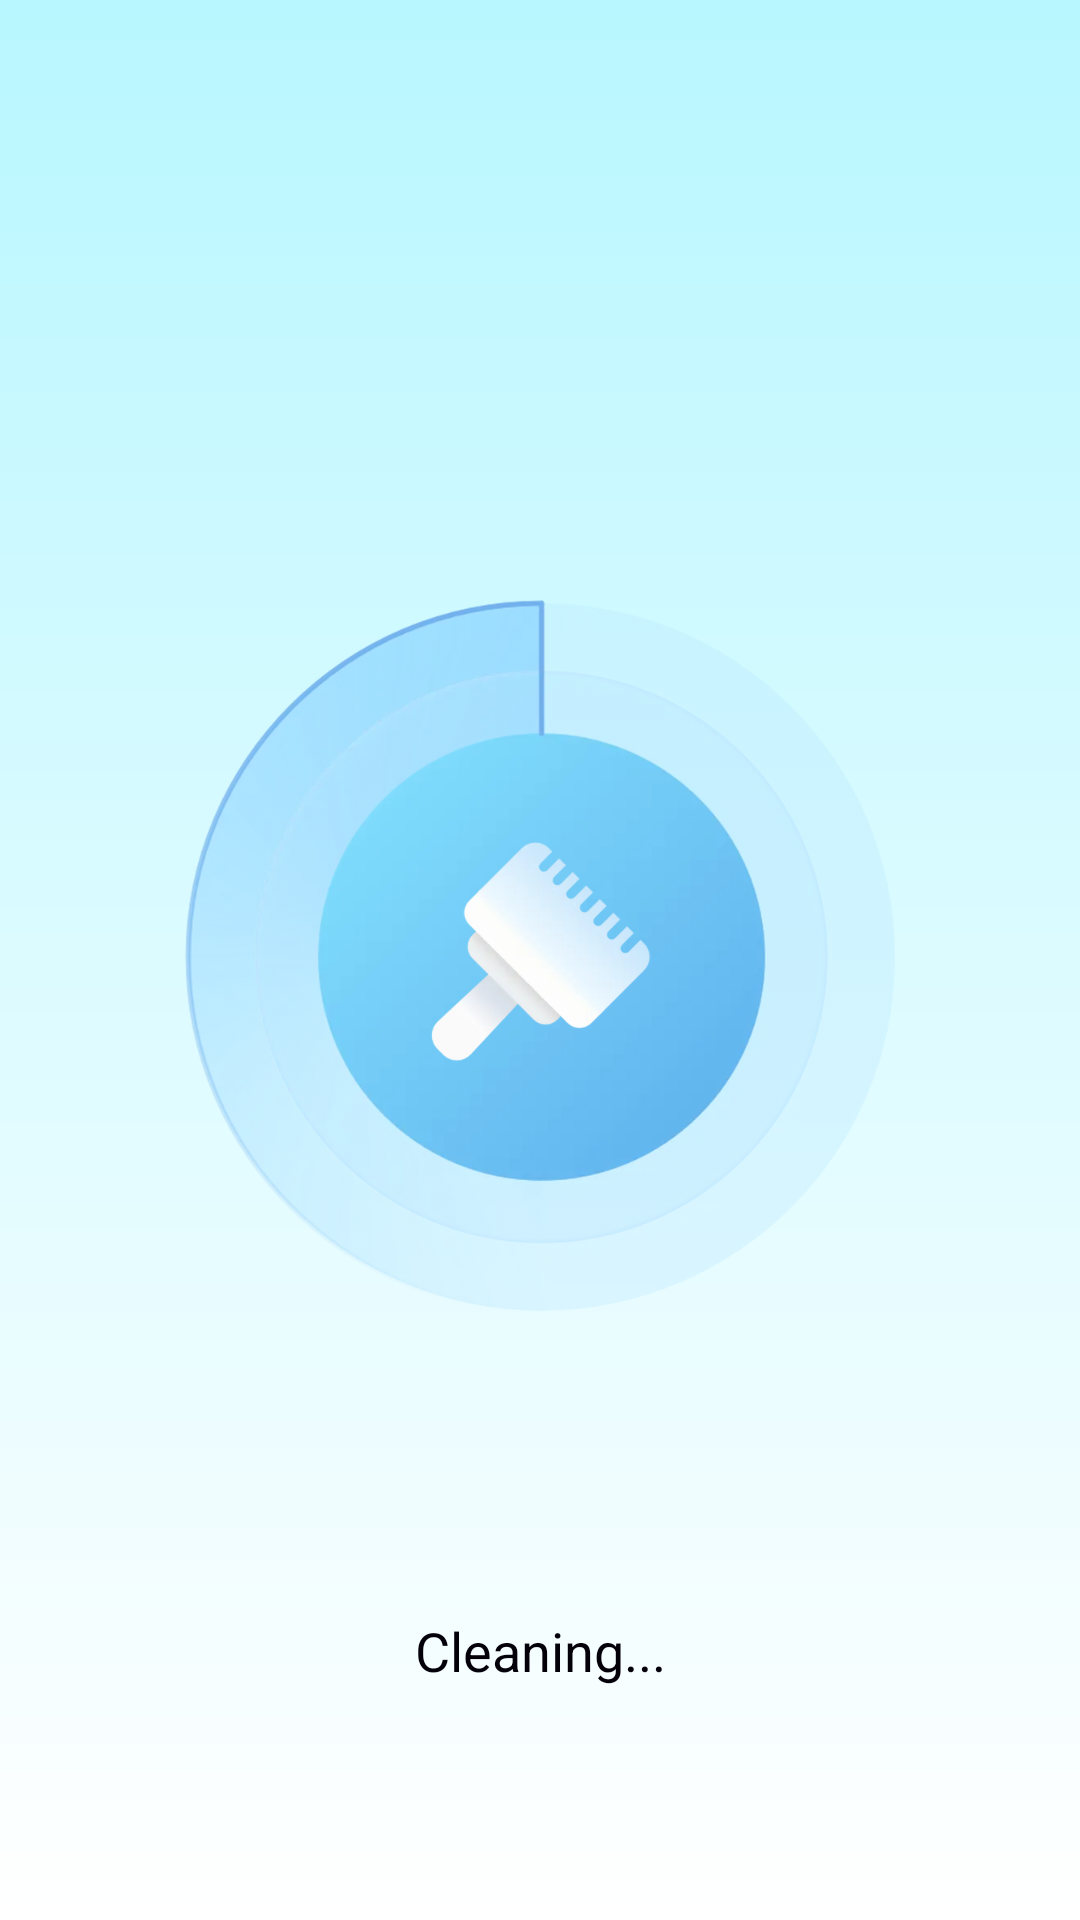

Locate icon controls on the screen. Image size 1080 × 1920, boxes as [x1,y1,x2,y2].
clean: [431,842,650,1061]
